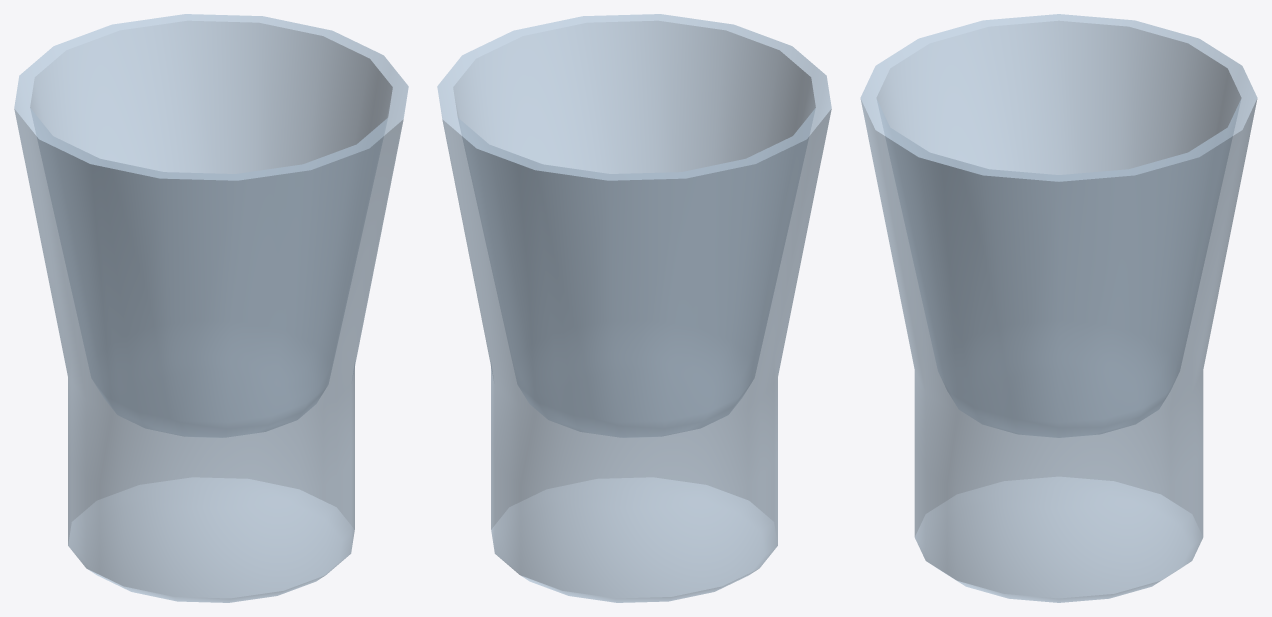
Rendered from ShotGlass.FBX.
3 views of the same model, side by side, from view 1: azimuth 30°, elevation 25°; view 2: azimuth 150°, elevation 25°; view 3: azimuth 270°, elevation 25° (orthographic).
Visible parts, largest first — view 1: ShotGlass; view 2: ShotGlass; view 3: ShotGlass.
Boxes of the visible parts, x1,y1,x2,y2 form: ShotGlass: (14,14,408,602); ShotGlass: (437,14,831,602); ShotGlass: (860,14,1257,602).
Size of the model in its own units: 18.59 by 23.22 by 18.59.
